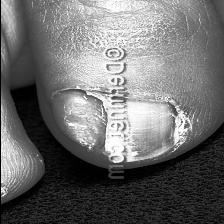Toxin: (40, 72, 110, 163), (125, 82, 182, 158)
